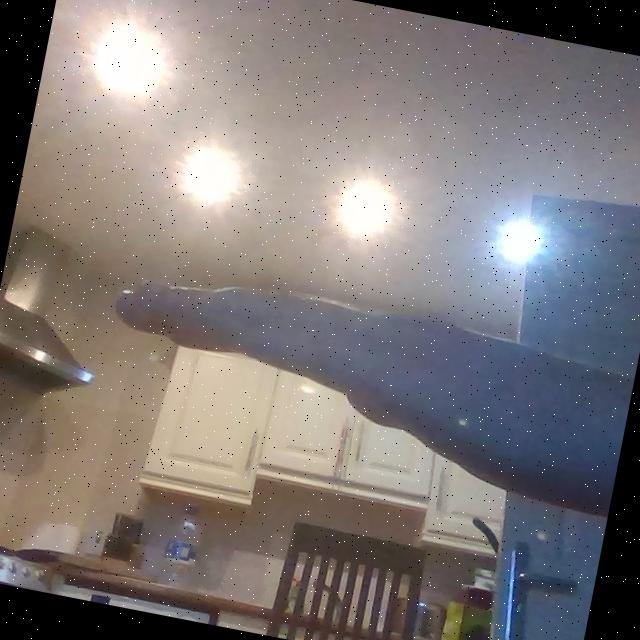papper: (86, 252, 556, 494)
